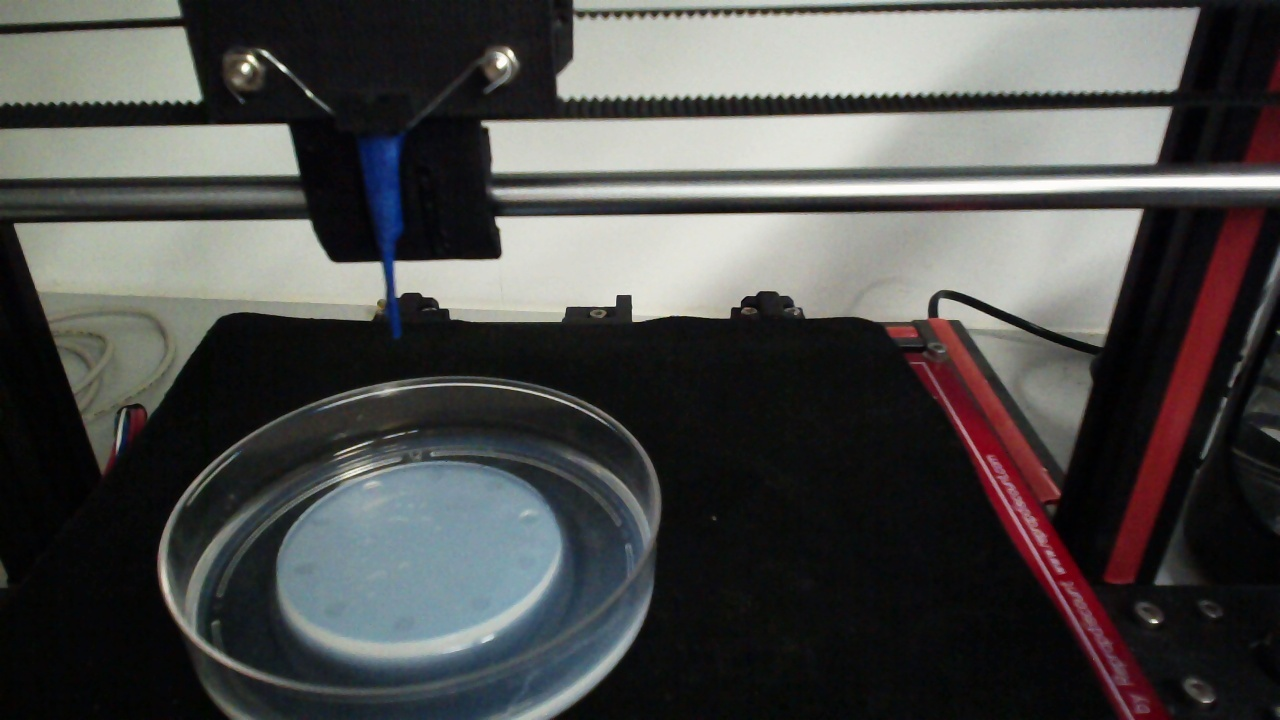groove: (467, 593, 494, 614), (292, 558, 319, 578), (513, 551, 538, 571), (423, 465, 448, 484), (361, 478, 386, 496), (517, 508, 542, 526), (391, 616, 414, 635), (310, 513, 333, 530), (322, 602, 345, 619), (483, 475, 507, 491)
needle: (359, 140, 400, 342)
